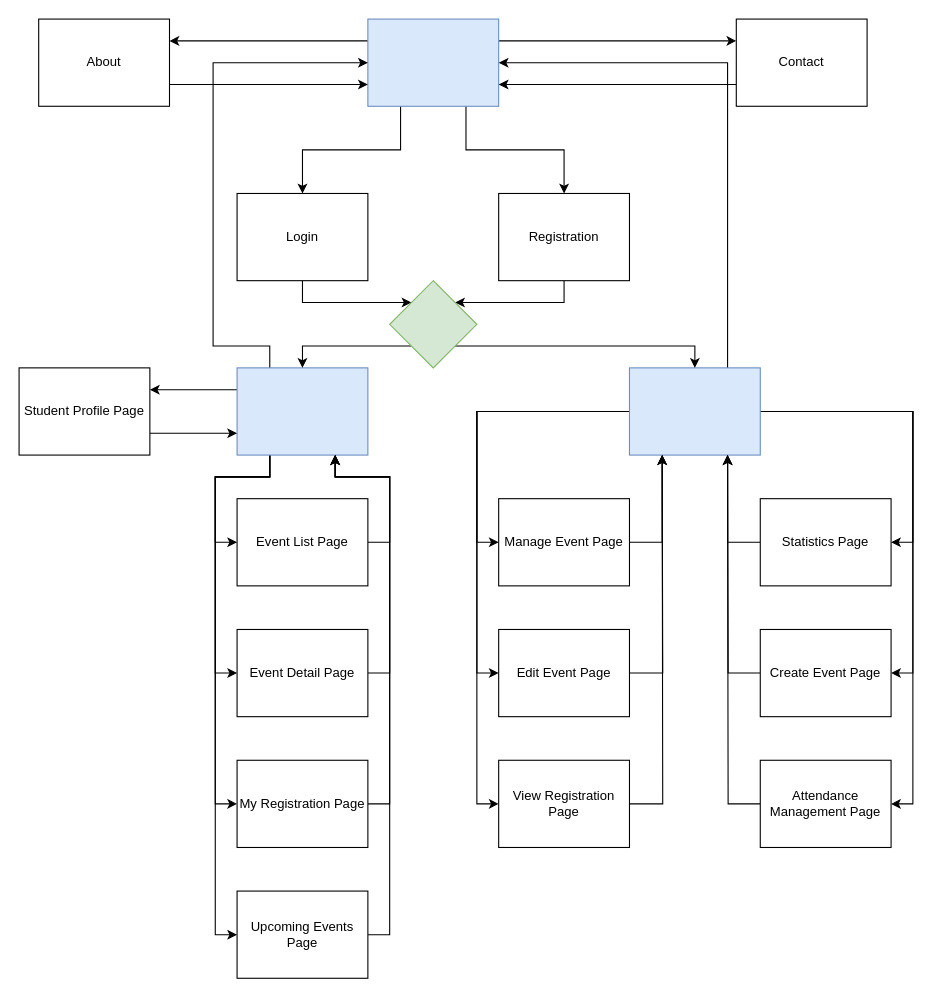
The diagram is 941 pixels wide and 997 high, and some of its shapes have lost their labels. Here are the shapes that lost their labels. From the top down, the centre of each, then its label:
the point at 433,62: Home
the point at 433,324: Validation
the point at 302,411: Student Dashboard
the point at 694,411: Admin Dashboard
